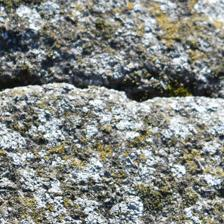Crack: (2, 31, 219, 75)
